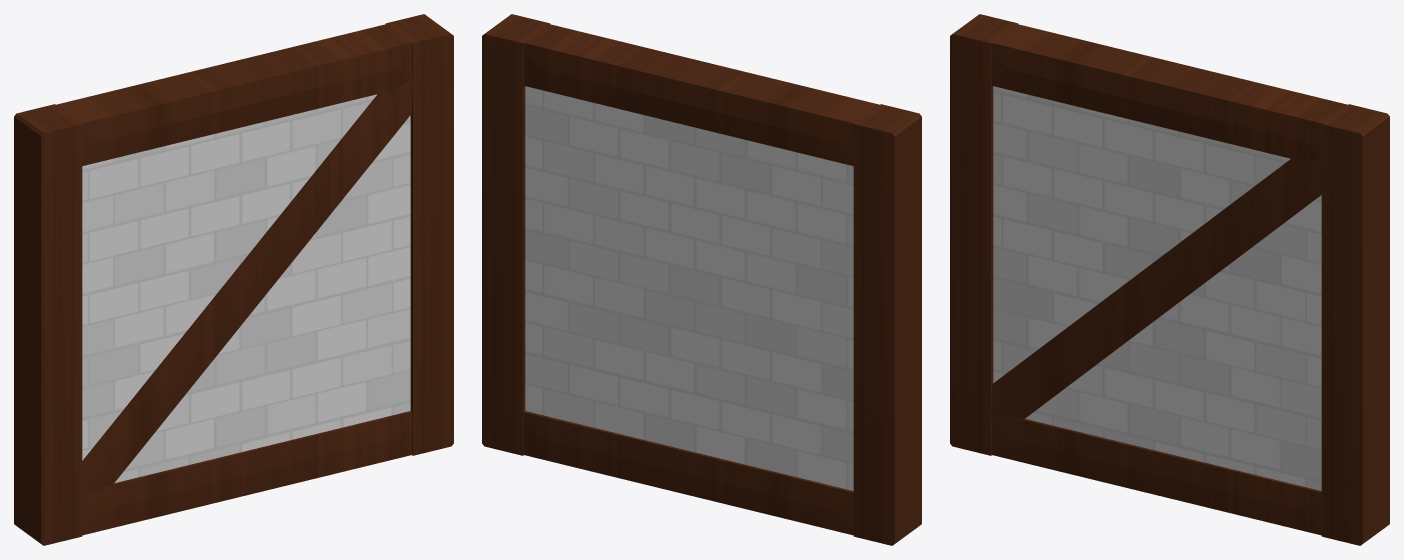
The model's file is Wall_R_Slash_Brick.fbx.
The picture shows the model from 3 angles, left to right: view 1: azimuth 30°, elevation 25°; view 2: azimuth 150°, elevation 25°; view 3: azimuth 330°, elevation 25°; orthographic projection.
Visible parts, largest first — view 1: Wall_R_Slash; view 2: Wall_R_Slash; view 3: Wall_R_Slash.
Part boxes in pixels (left/top/right/bottom): Wall_R_Slash: left=14, top=14, right=453, bottom=545; Wall_R_Slash: left=482, top=14, right=921, bottom=545; Wall_R_Slash: left=950, top=14, right=1389, bottom=545.
Size of the model in its own units: 212 by 202 by 26.17.
